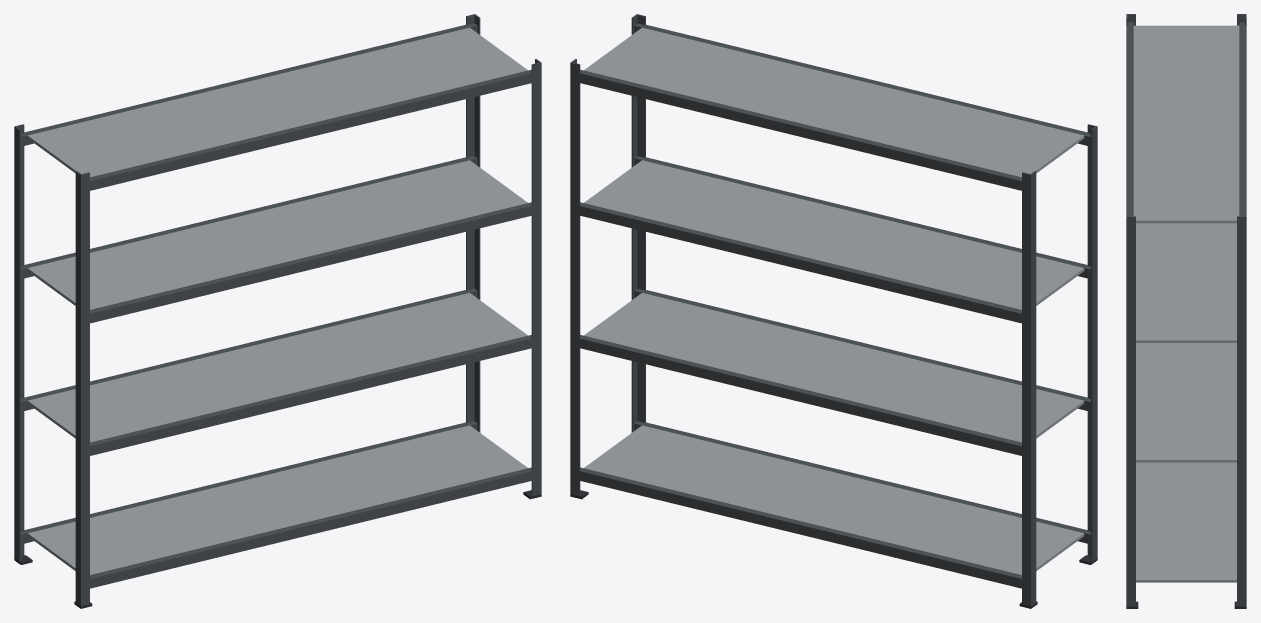
File: etagere_metal.glb
3 renders of one model, left to right at view 1: azimuth 30°, elevation 25°; view 2: azimuth 150°, elevation 25°; view 3: azimuth 270°, elevation 25°, orthographic. The views are drawn at different scales.
Parts seen in each view (by area): view 1: plates, beams, post, post_b, post_r, post_rb; view 2: plates, beams, post_b, post_rb, post, post_r; view 3: plates, post_r, post_rb, beams.
Part boxes in pixels (x1,y1,x2,y2): plates: (27,27,527,574); beams: (21,23,540,588); post: (75,171,89,606); post_b: (14,124,24,561); post_r: (531,59,541,496); post_rb: (466,14,480,432); plates: (584,27,1084,574); beams: (571,23,1090,588); post_b: (1022,171,1036,606); post_rb: (570,59,580,496); post: (1087,124,1097,561); post_r: (631,14,645,432); plates: (1133,25,1239,582); post_r: (1126,213,1135,606); post_rb: (1237,213,1246,606); beams: (1126,22,1246,216).
Size of the model in its own units: 2 by 1.8 by 0.5.
Materials: 3 (3 with a texture image).
